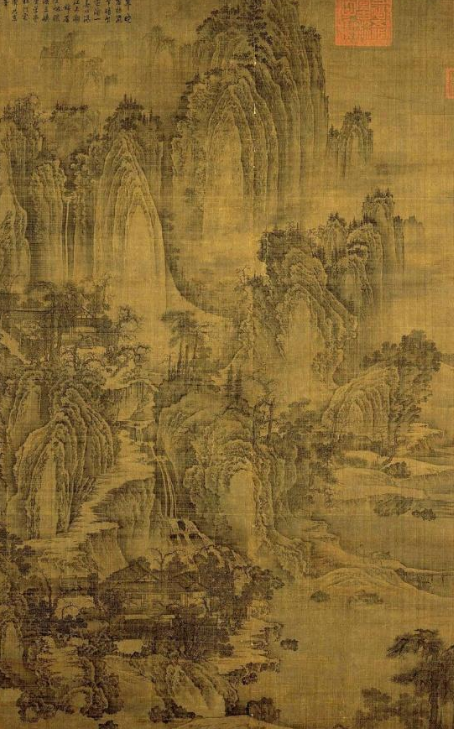mountain: (155, 11, 319, 237), (152, 386, 296, 562), (256, 215, 409, 352), (68, 108, 171, 273), (12, 375, 112, 542), (1, 93, 70, 280), (325, 365, 417, 451), (322, 104, 375, 183)
pine: (1, 543, 125, 714), (27, 282, 140, 368), (380, 615, 454, 726), (193, 556, 275, 648)
